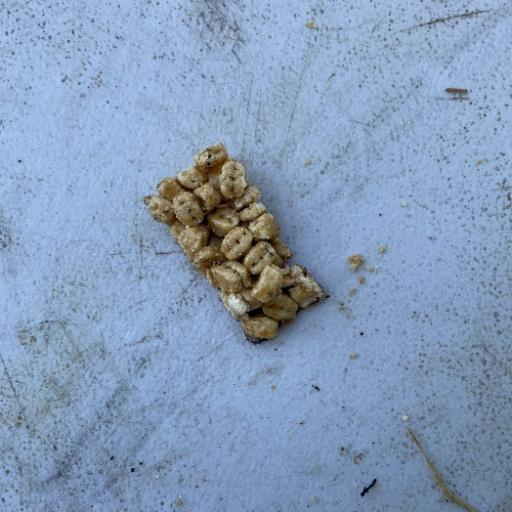Waste: (142, 141, 328, 344)
